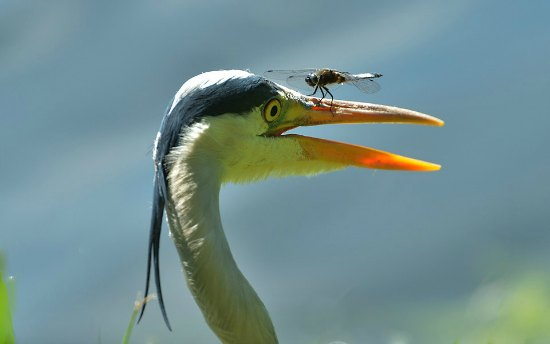heron: (125, 55, 452, 344)
